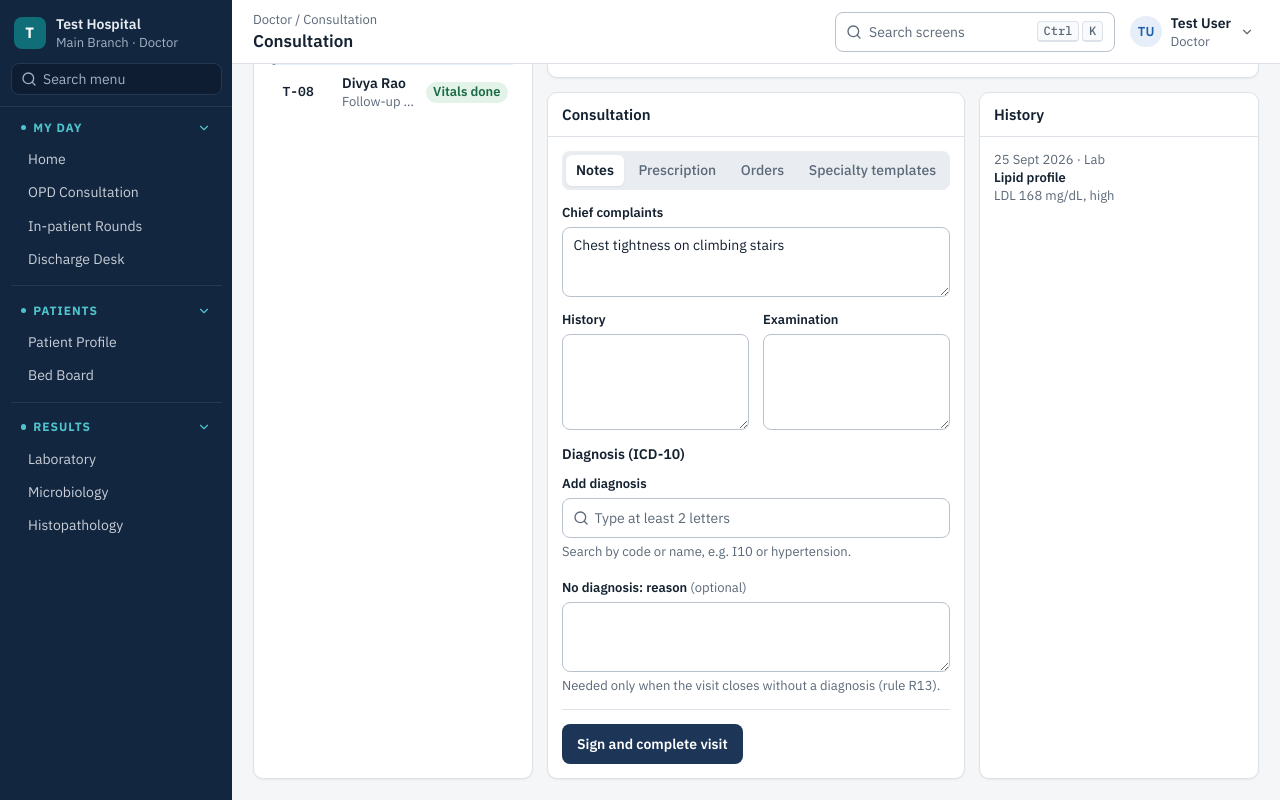
Scenario: Consultation › explains rule R13 when the visit has no diagnosis, then signs and offers the next patient
(page scrolled)
Step 1. Click the button "Sign and complete visit" → click(652, 744), box [562,724,743,764]
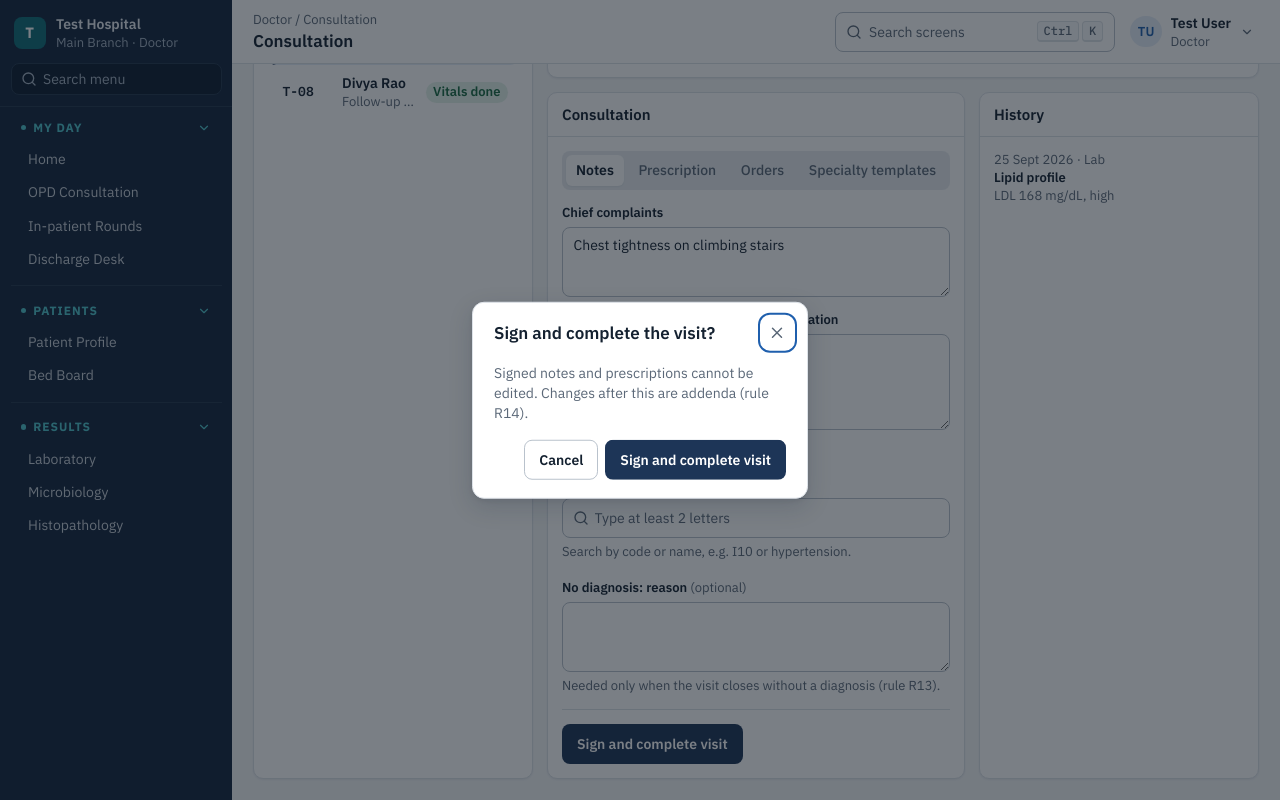
Step 2. Click the button "Sign and complete visit" → click(696, 460), box [605,440,786,480]
(page scrolled)
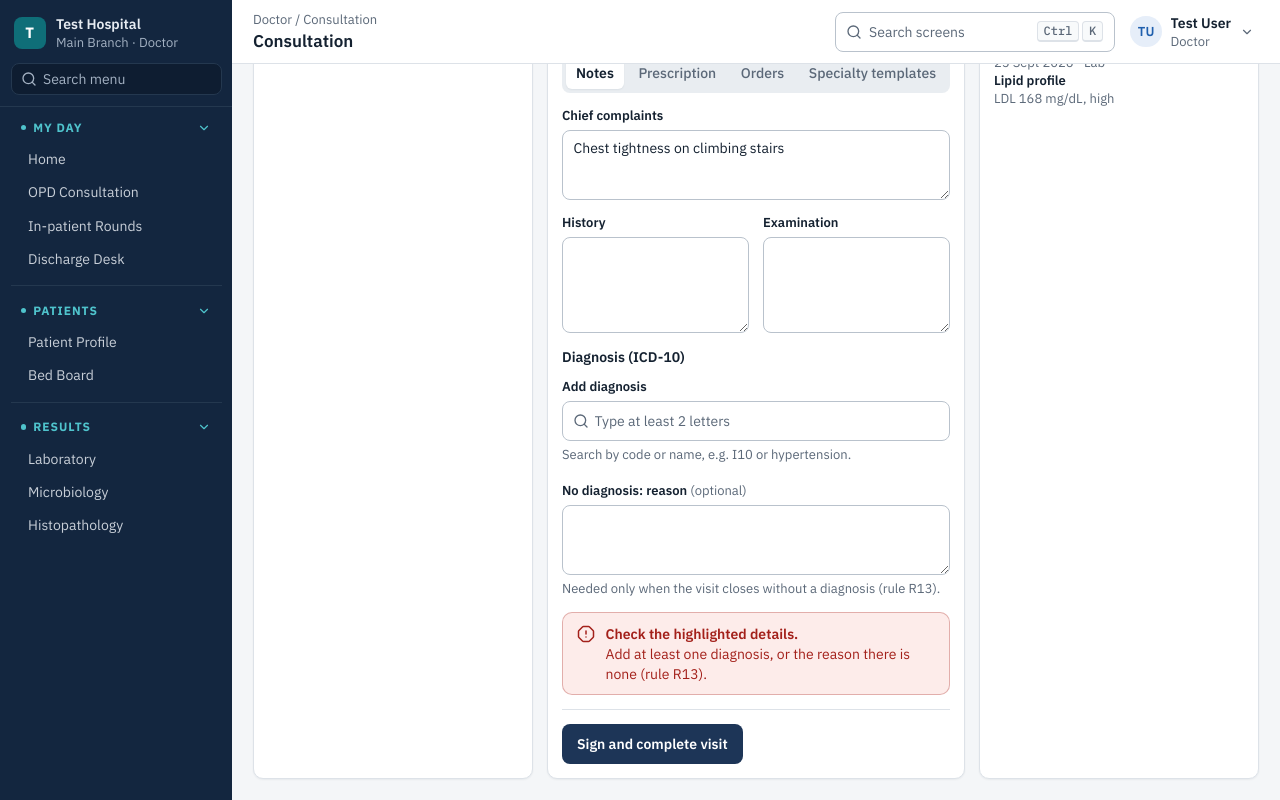
Check: the dialog is gone
Step 3. Click the button "Sign and complete visit" → click(652, 744), box [562,724,743,764]
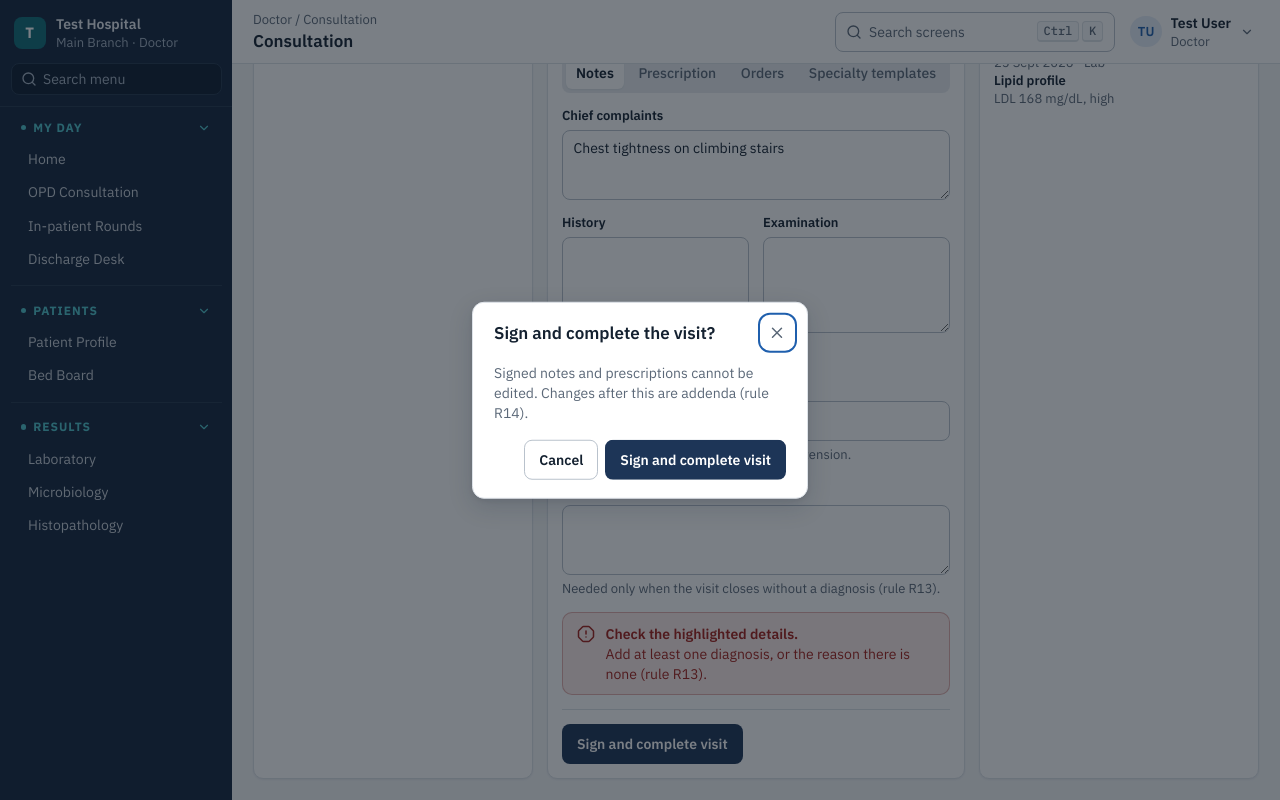
Step 4. Click the button "Sign and complete visit" → click(696, 460), box [605,440,786,480]
(page scrolled)
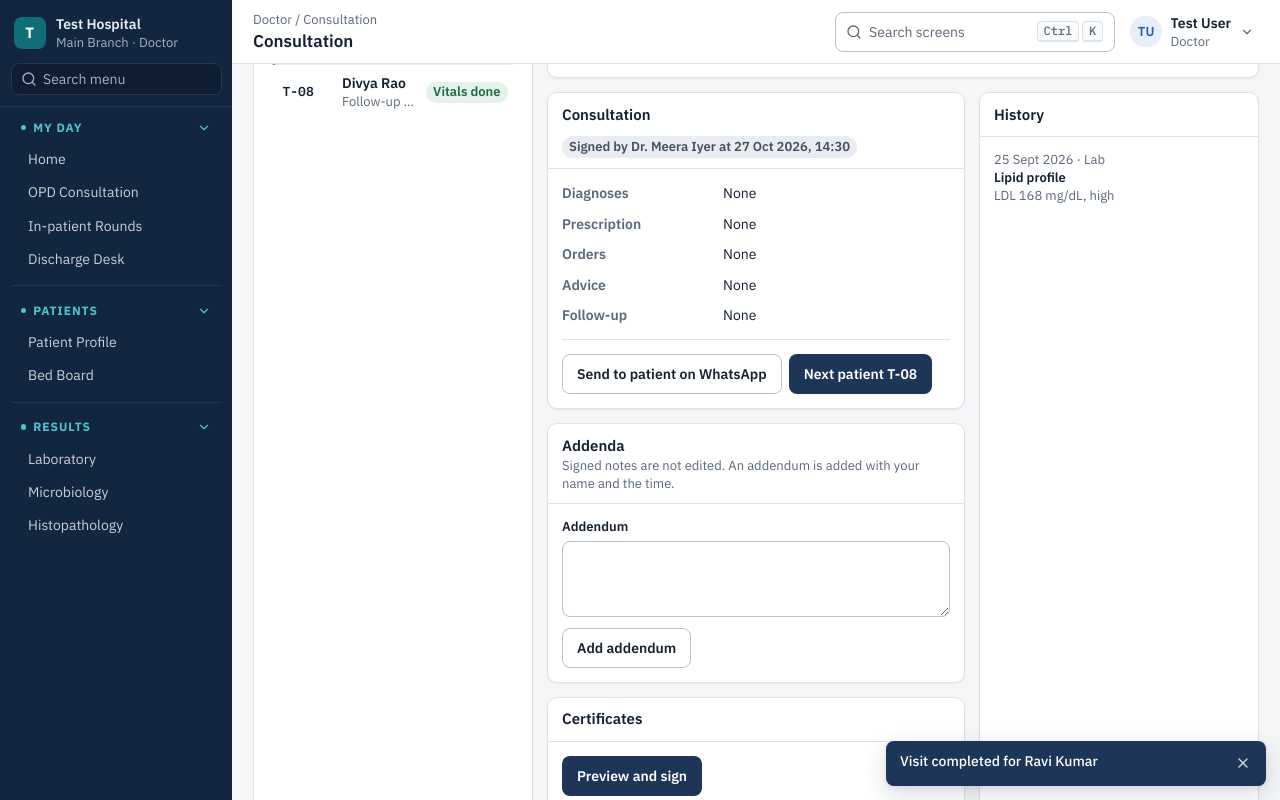
Check: the text "Signed by Dr. Meera Iyer at 27 Oct 2026, 14:30" is shown, box [569,138,850,156]
Step 5. Click the button "Next patient T-08" → click(860, 374), box [789,354,932,394]
(page scrolled)
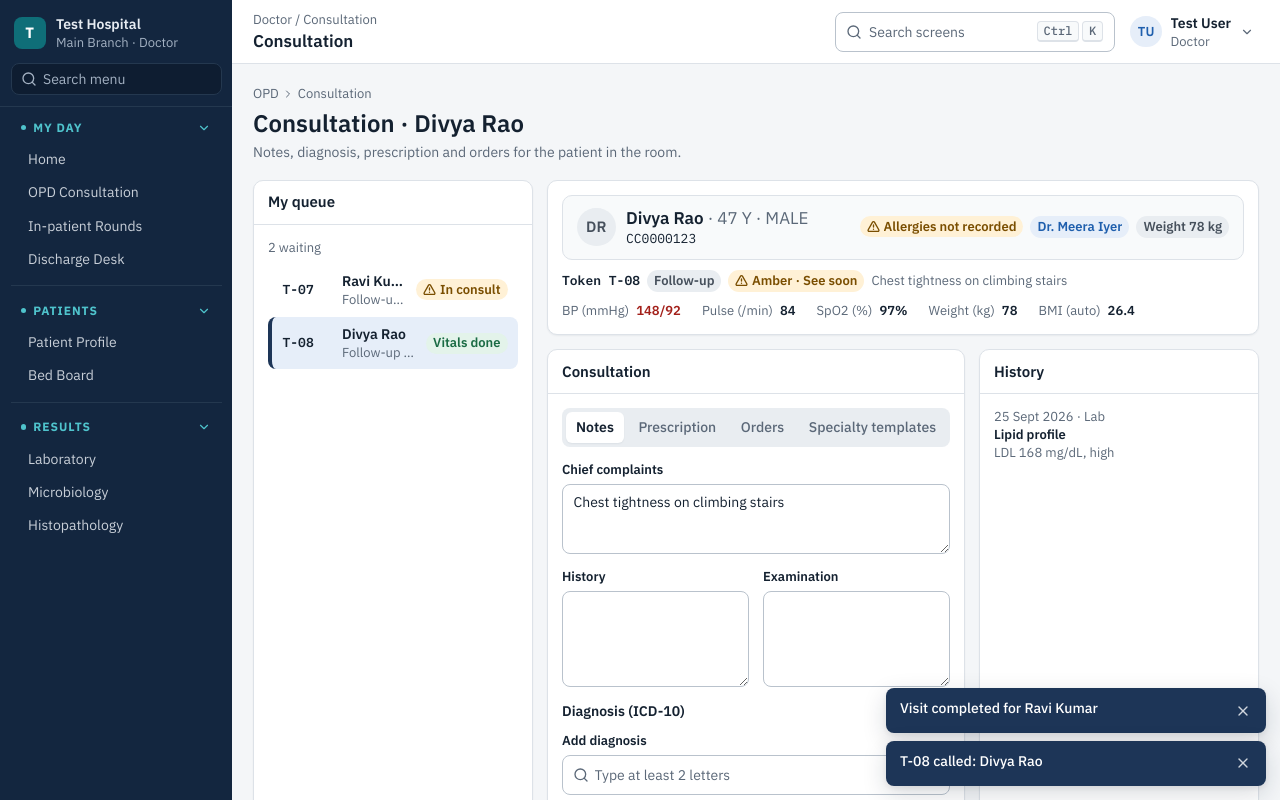
Check: the heading "Consultation · Divya Rao" is shown, box [253,106,524,138]
